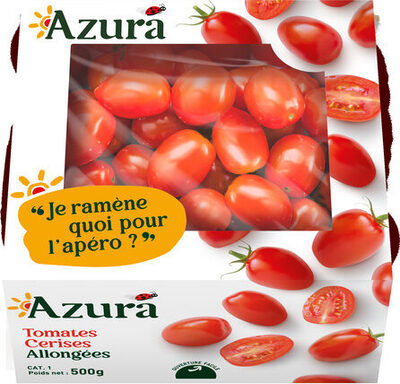Tomates cerises: (20, 19, 380, 365)
